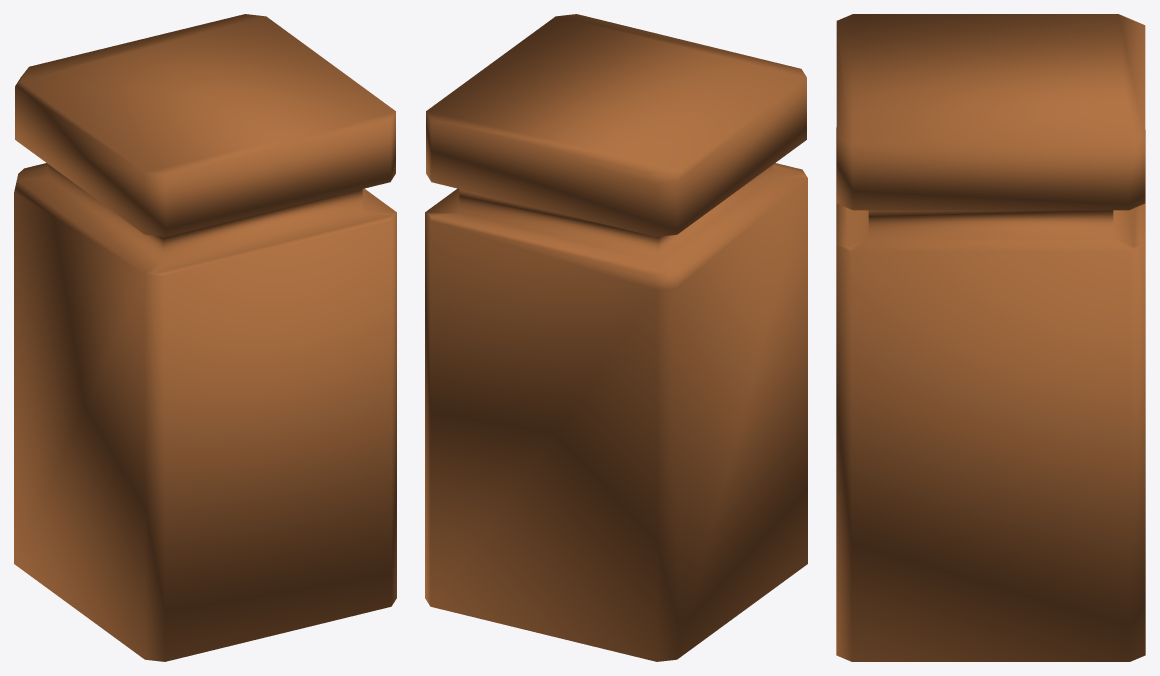
Rendered from Mesh_PillarSmall.glb.
3 renders of one model, left to right at view 1: azimuth 30°, elevation 25°; view 2: azimuth 150°, elevation 25°; view 3: azimuth 270°, elevation 25°, orthographic. The views are drawn at different scales.
Parts seen in each view (by area): view 1: Cube.013; view 2: Cube.013; view 3: Cube.013.
Part boxes in pixels (bbox=[...]): Cube.013: bbox=[14, 14, 396, 661]; Cube.013: bbox=[425, 14, 807, 661]; Cube.013: bbox=[836, 14, 1145, 661].
Bounding box in the file's own units: 4.25 × 7.83 × 4.25.
